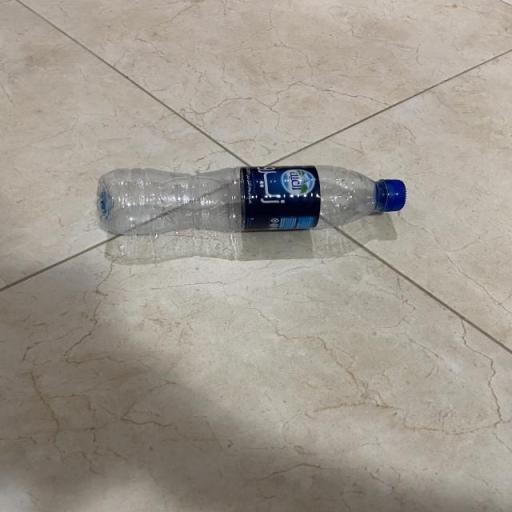plastic: (92, 163, 414, 243)
